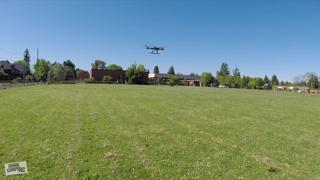UAV: (143, 46, 168, 54)
